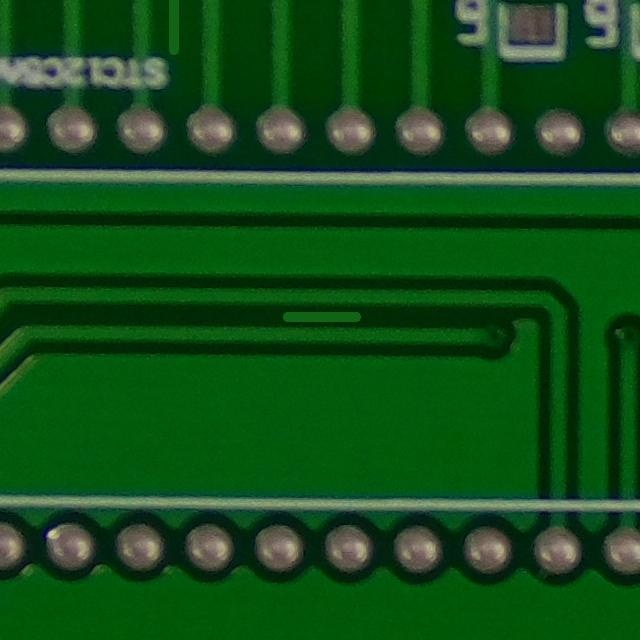spurious_copper: (268, 295, 373, 346)
